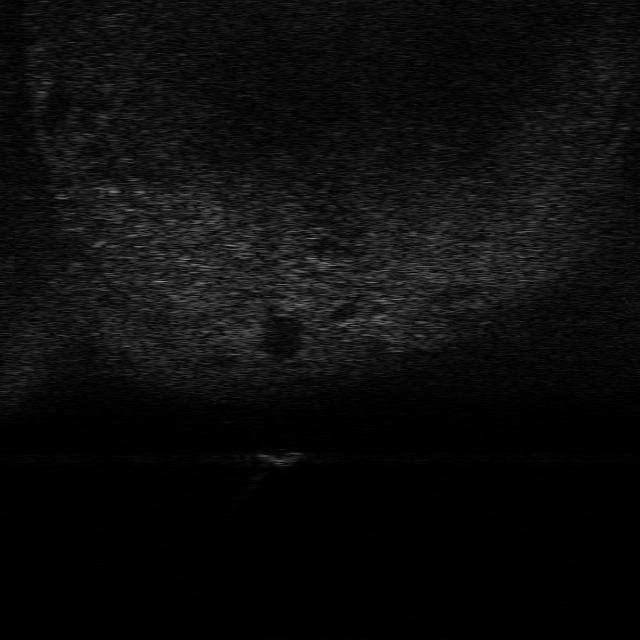cube: (258, 445, 306, 468)
